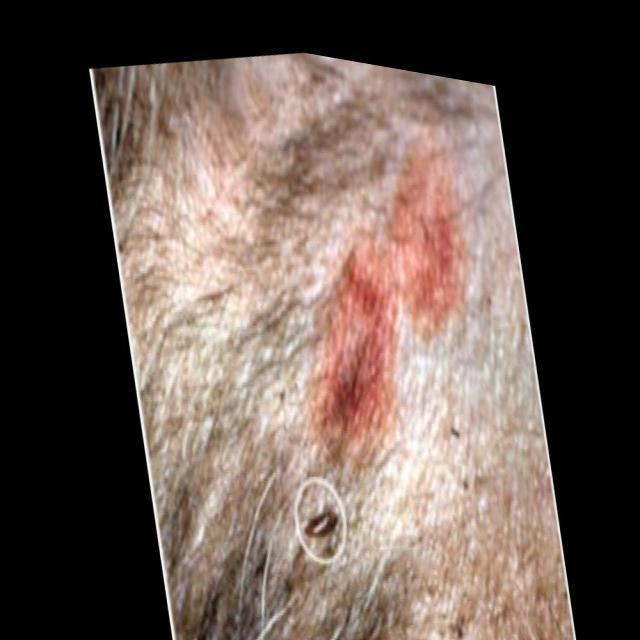allergic dermatitis: (300, 133, 468, 461)
